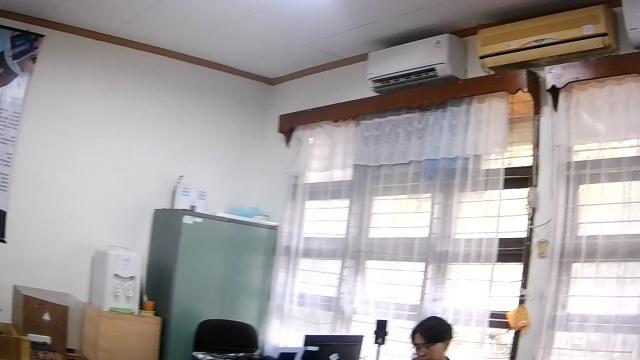AC: (476, 2, 618, 77), (364, 32, 467, 96)
Dispenser: (90, 245, 142, 314)
